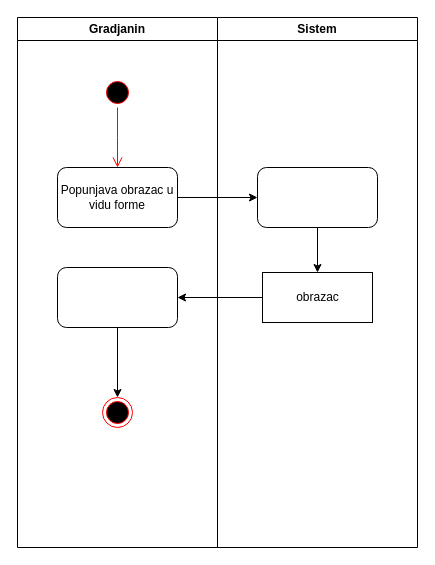
Image size: 435x565. Some labels were removed from this diagram. Here are the shapes that lost their labels. From the top down, the box of each, then its label:
(256, 166, 378, 228): obrada rešenja obrasca
(56, 266, 178, 328): prikaz obrasca
